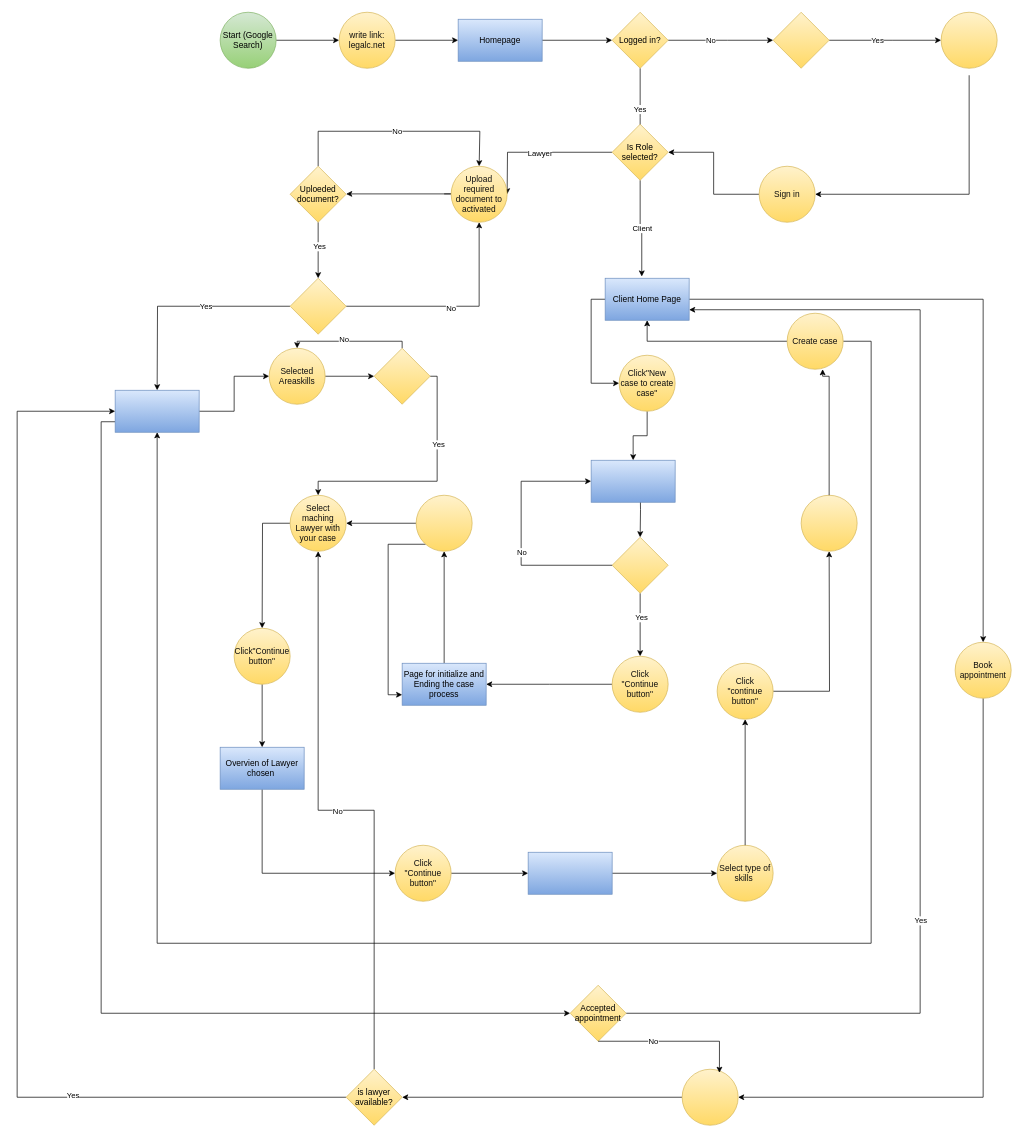
The diagram is 1023 pixels wide and 1138 high, and some of its shapes have lost their labels. The box of each missing label's shape, as (x1, y1, x2, y2) in pixels:
Activated Lawyer?: (289, 278, 346, 334)
Check scheduler of Lawyer: (681, 1069, 738, 1125)
Click "create button": (800, 495, 857, 551)
Click"Continue Button or back button": (415, 495, 472, 551)
Done filling form: (611, 537, 668, 593)
Landing form for case details: (590, 460, 675, 502)
Lawyer Home page: (114, 390, 199, 432)
Matched lawyer?: (373, 348, 430, 404)
New User?: (772, 12, 829, 68)
Overview of skills to be chosen: (527, 852, 612, 894)
Registration: (940, 12, 997, 68)
